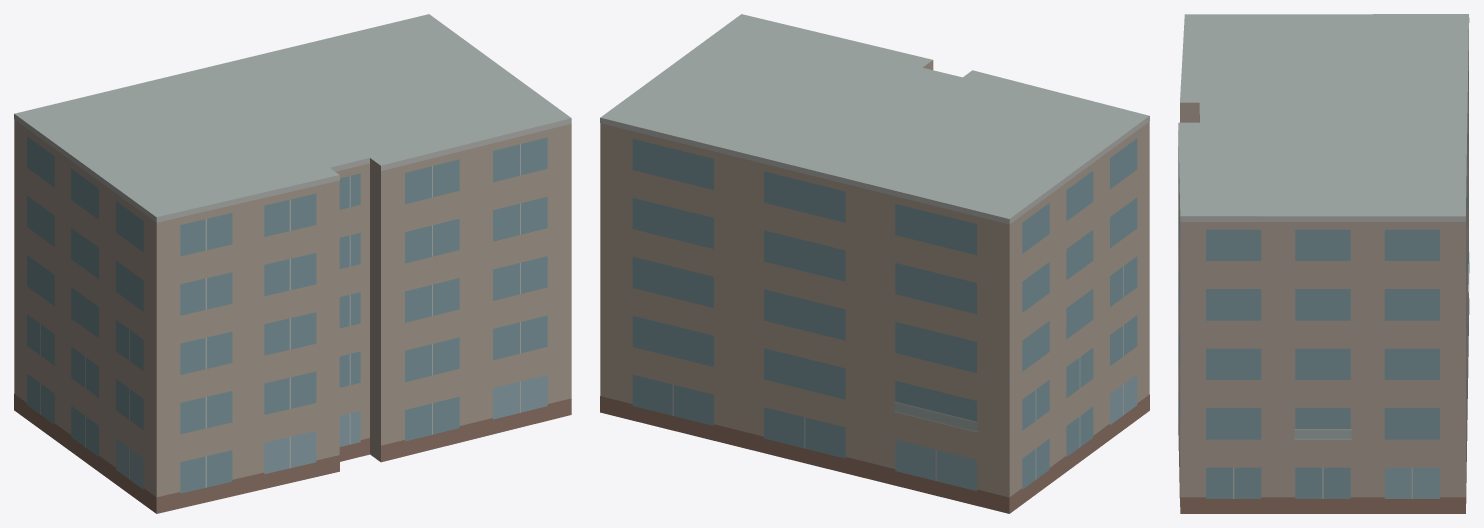
Rendered from survey-upis-32975411.glb.
3 renders of one model, left to right at view 1: azimuth 30°, elevation 25°; view 2: azimuth 150°, elevation 25°; view 3: azimuth 270°, elevation 25°, orthographic.
Visible parts, largest first — view 1: survey-upis-32975411.tmp; view 2: survey-upis-32975411.tmp; view 3: survey-upis-32975411.tmp.
Boxes of the visible parts, <box> form: survey-upis-32975411.tmp: <box>14,14,571,513</box>; survey-upis-32975411.tmp: <box>600,14,1149,513</box>; survey-upis-32975411.tmp: <box>1178,14,1469,513</box>.
Size of the model in its own units: 19.23 by 13.15 by 11.68.
